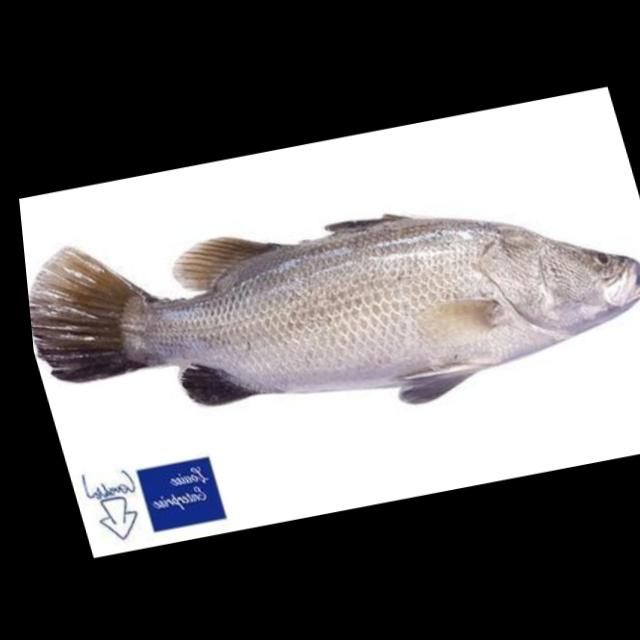Seabass: (13, 138, 640, 476)
